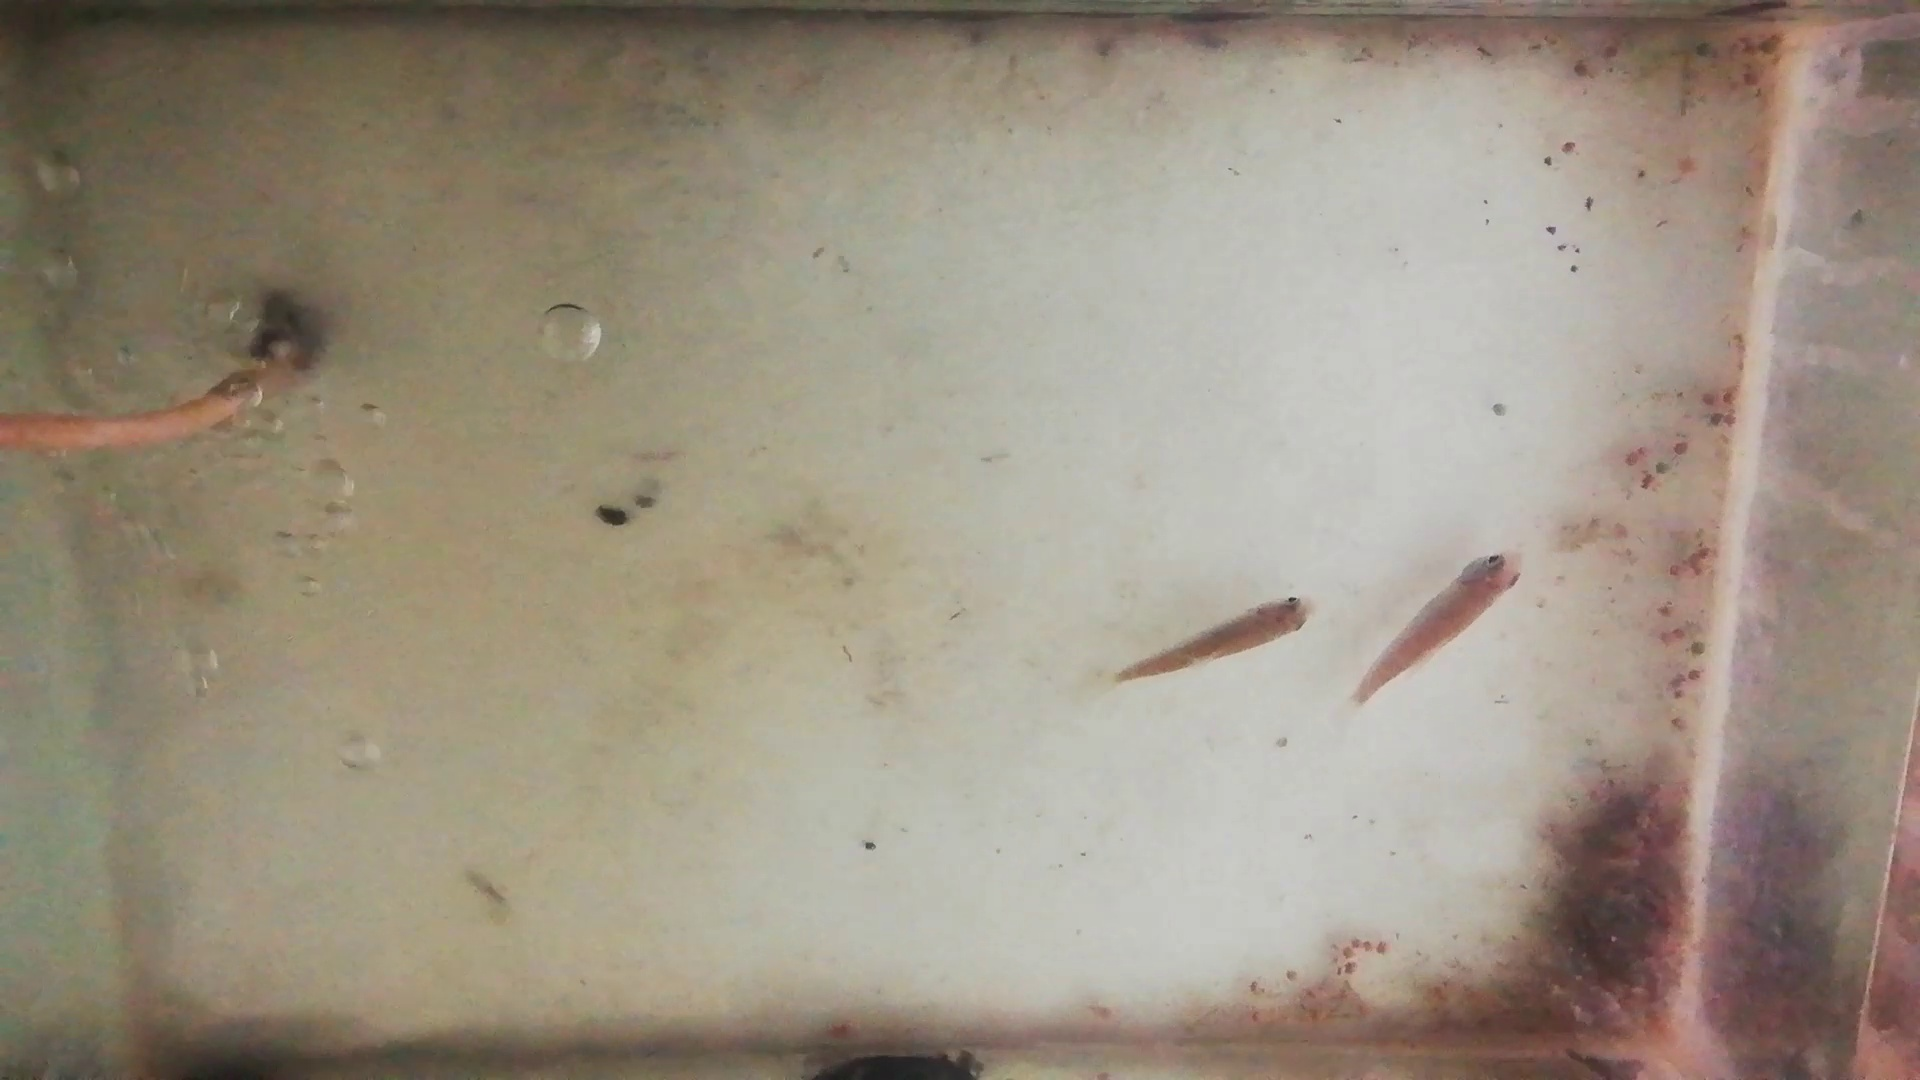fish: (1356, 542, 1532, 703), (1116, 592, 1309, 682)
